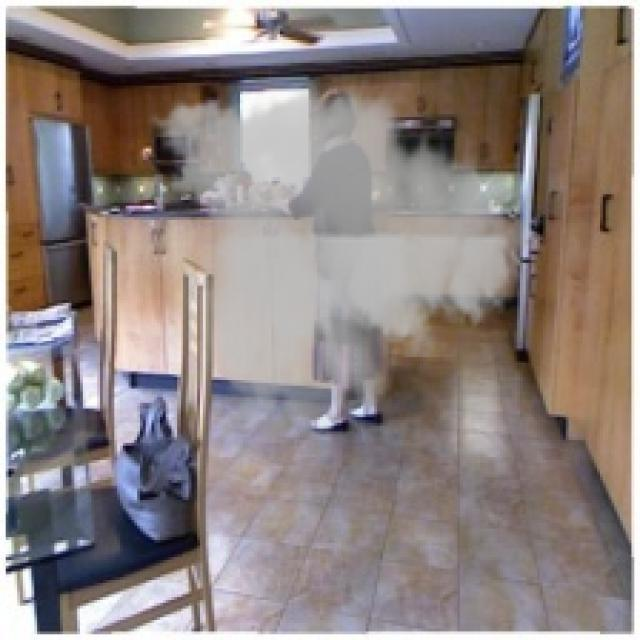Smoke: (140, 74, 546, 443)
